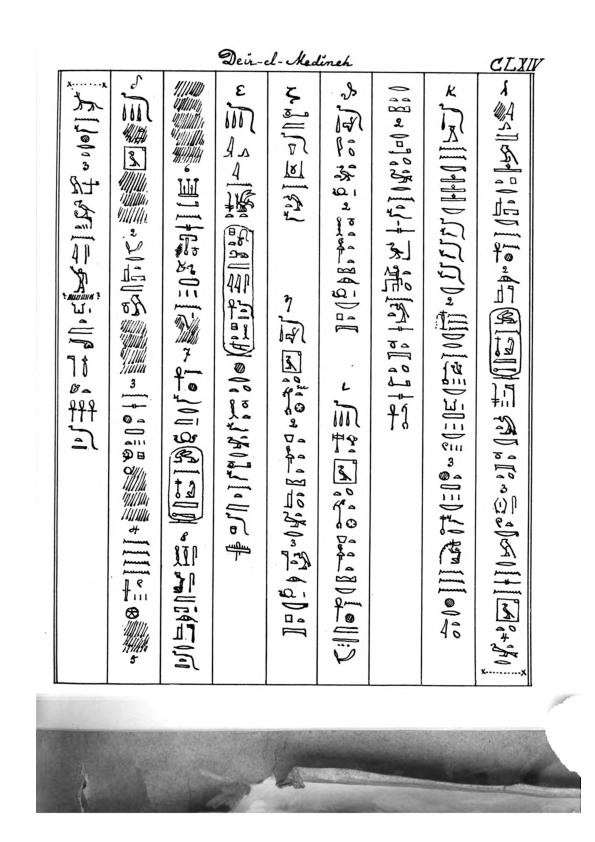circle: (220, 223, 258, 360), (166, 445, 205, 528), (485, 305, 523, 382)
